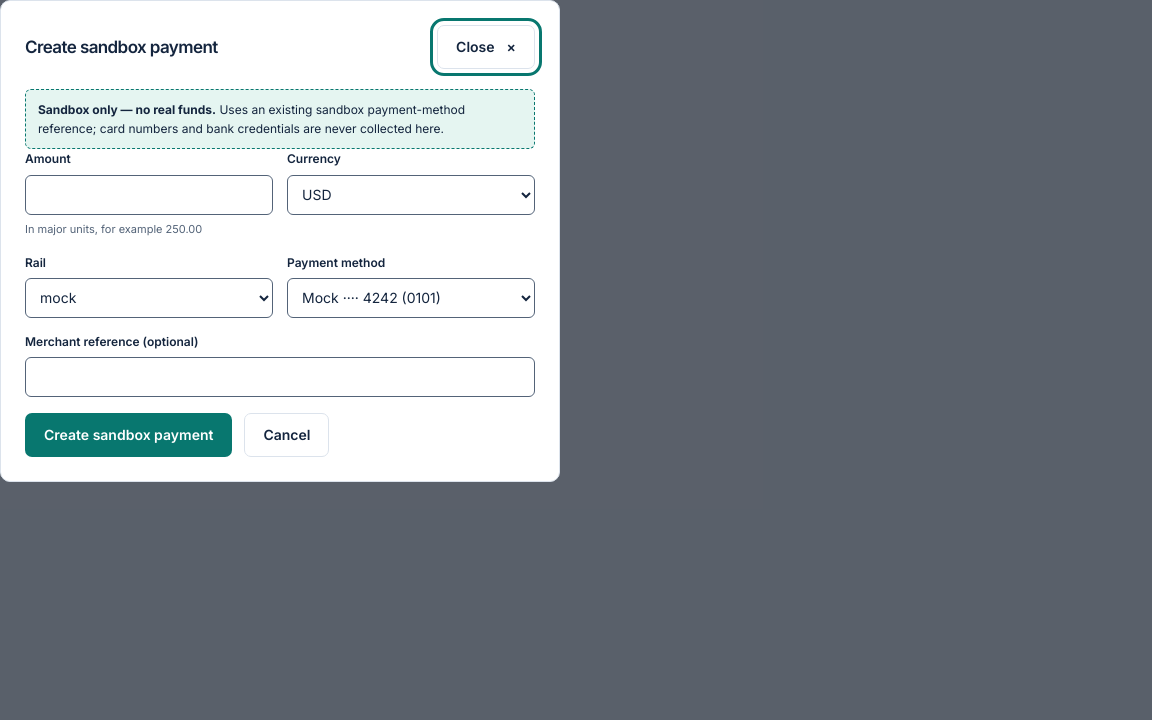
Scenario: create payment dialog › shows inline field errors and does not submit invalid amounts
Type "1.001" into the field labelled "Amount" at (149, 195), box [25,175,273,215]
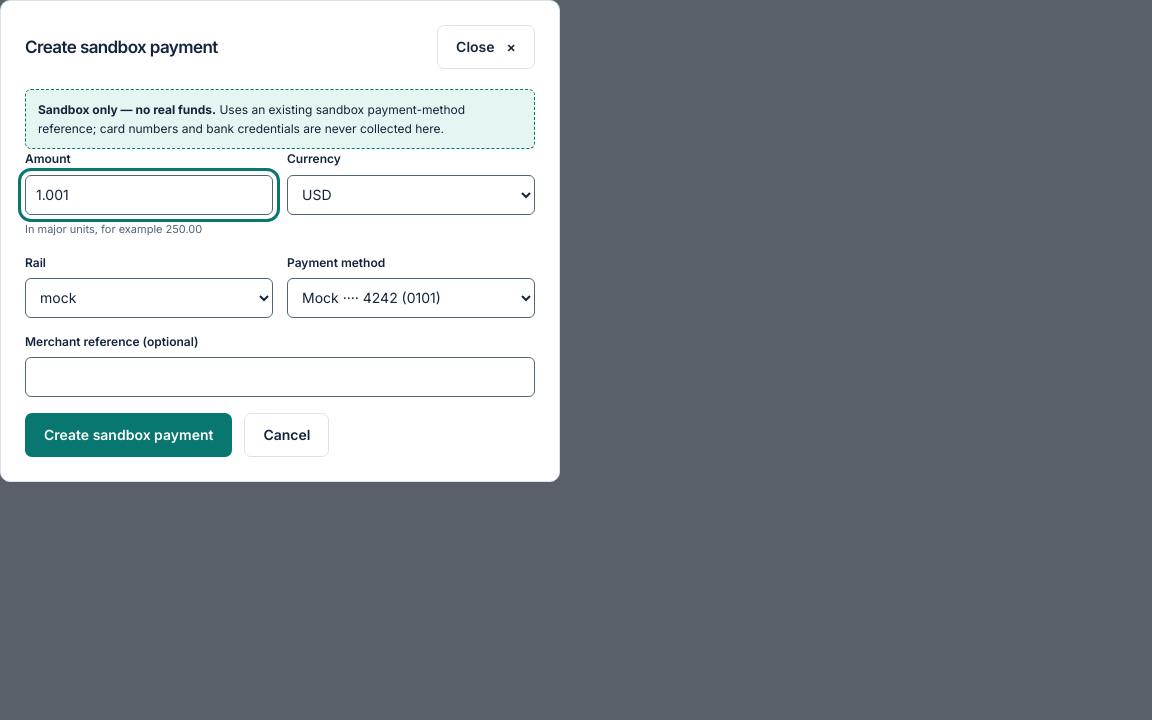
Click the button "Create sandbox payment" at (129, 435), box [25,413,232,457]
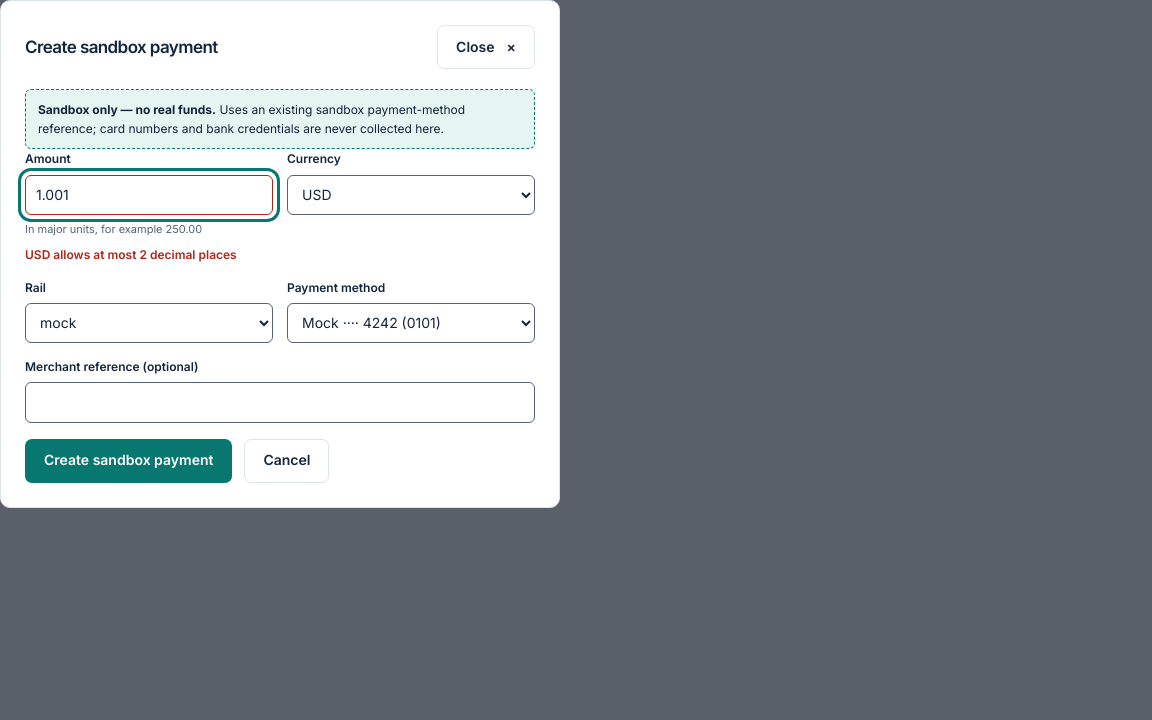
Result: the text "USD allows at most 2 decimal places" is shown at [25,244,273,264]
